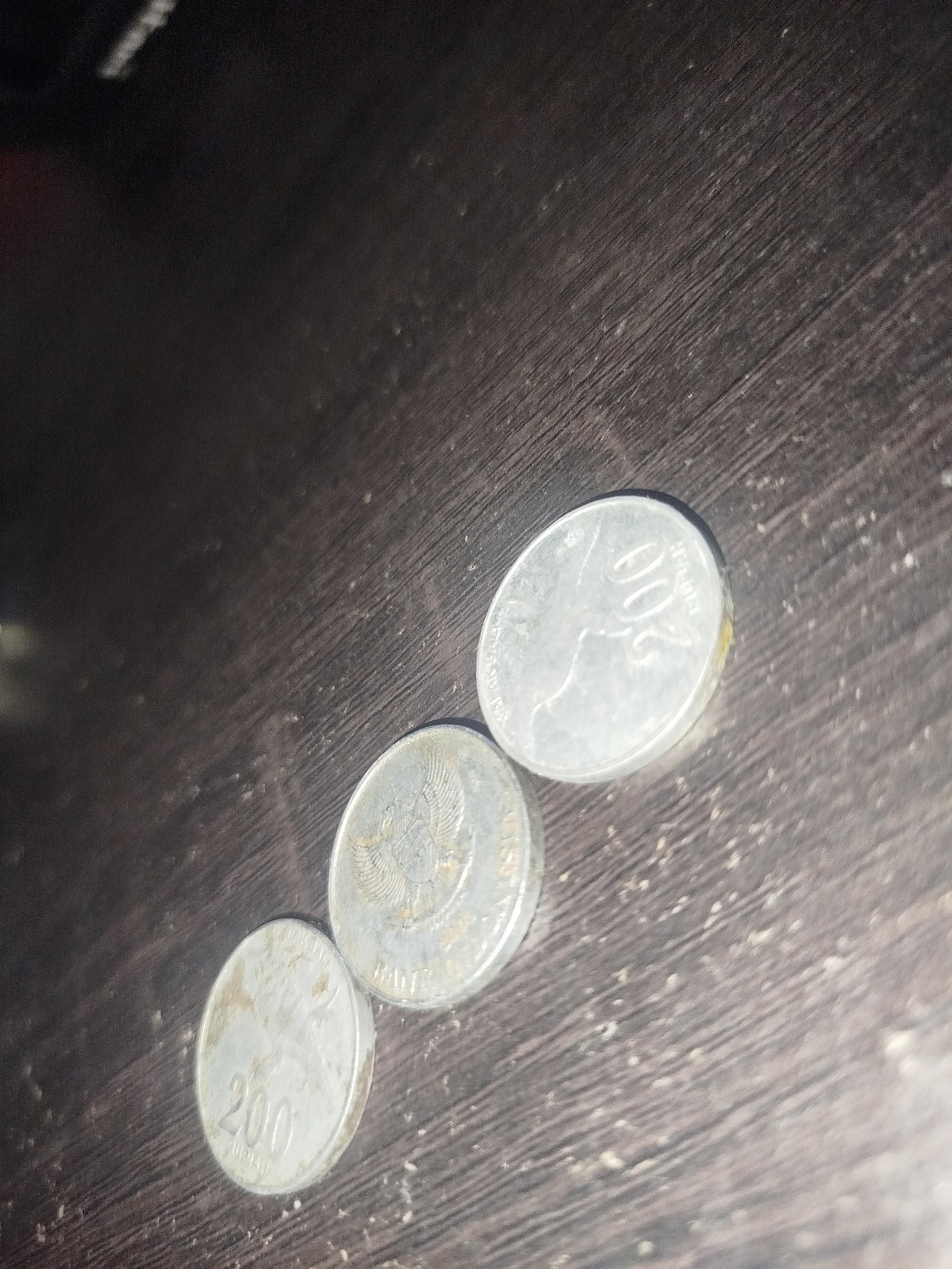coin_200_e2003: (468, 488, 732, 787)
